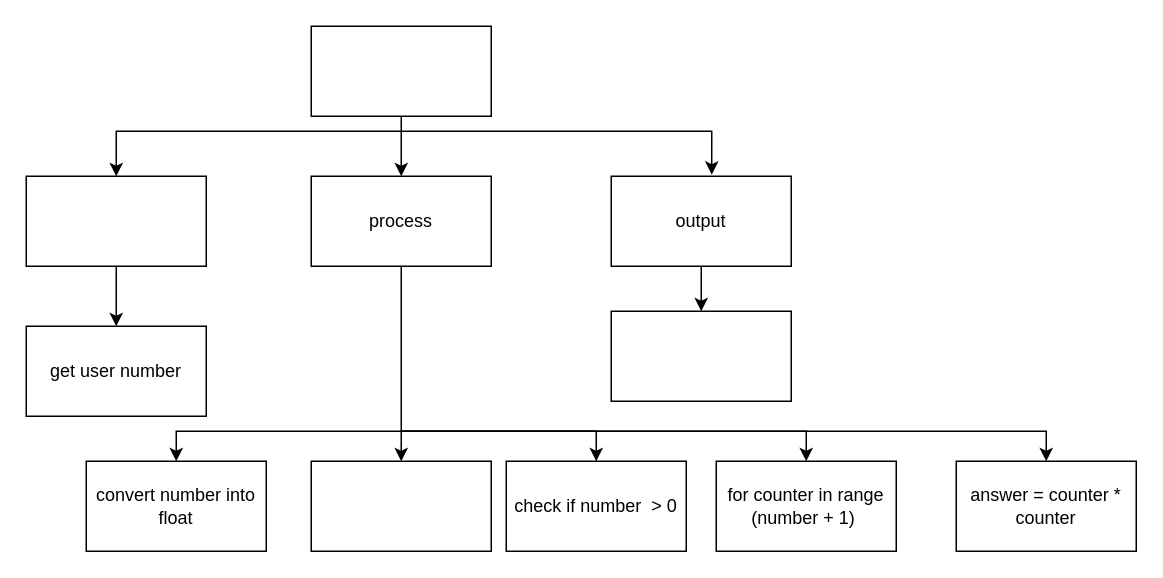
Image size: 1163x578. Some labels were removed from this diagram. The shapes that lost their labels are listed below. From the top down, each one's box as (x1, y1, x2, y2) in pixels, then its label:
(310, 25, 491, 116): square roots program
(25, 175, 206, 266): input
(610, 310, 791, 401): show user answer
(310, 460, 491, 551): convert number into integer
